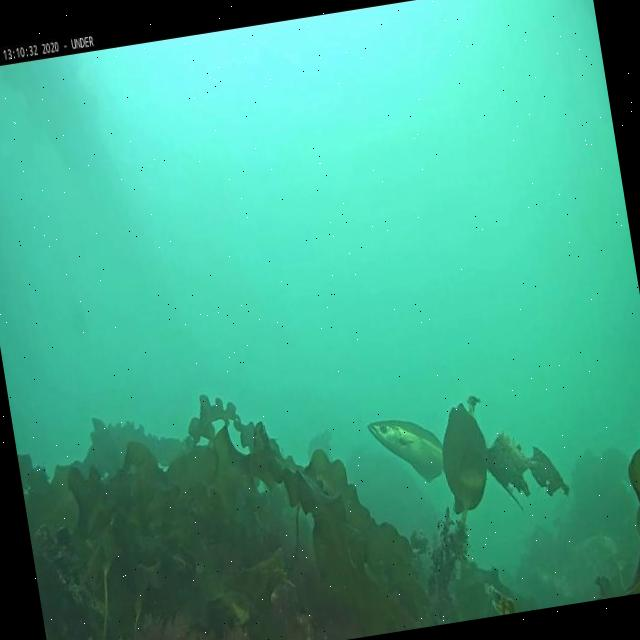fish: (366, 406, 454, 498)
